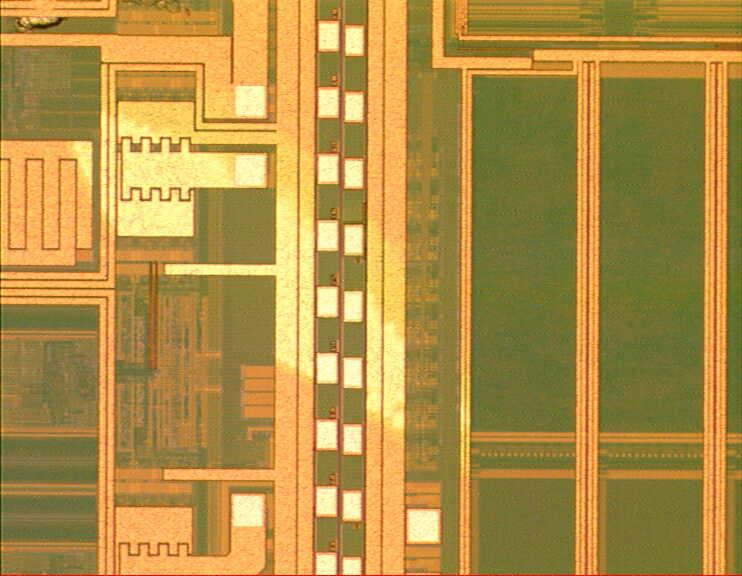COATING BAD: (67, 92, 422, 434)
